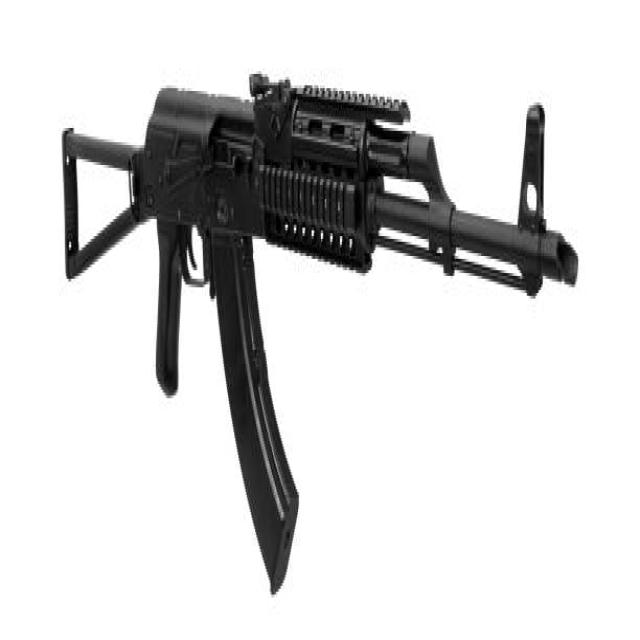rifle: (55, 55, 584, 609)
